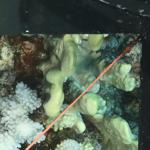alive: (1, 36, 146, 148)
